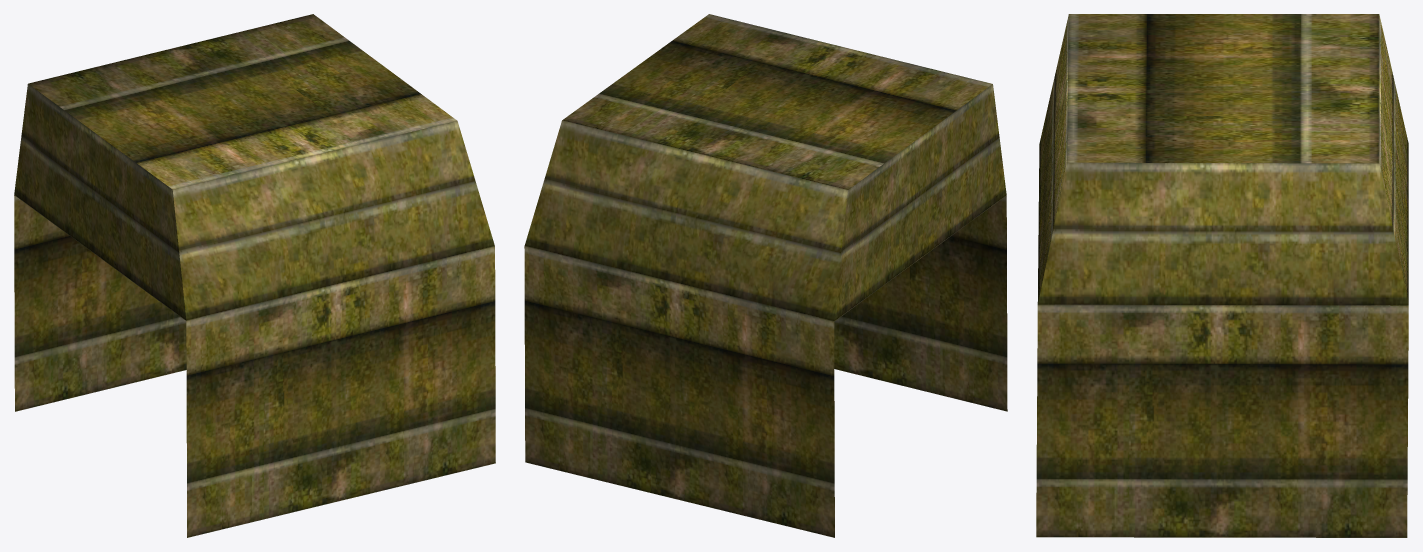
Rendered from OVERHILL_A_01_OBJECT301.fbx.
3 renders of one model, left to right at view 1: azimuth 30°, elevation 25°; view 2: azimuth 150°, elevation 25°; view 3: azimuth 270°, elevation 25°, orthographic. The views are drawn at different scales.
Parts seen in each view (by area): view 1: OVERHILL_A_01_OBJECT301; view 2: OVERHILL_A_01_OBJECT301; view 3: OVERHILL_A_01_OBJECT301.
Part boxes in pixels (left/top/right/bottom): OVERHILL_A_01_OBJECT301: left=14, top=14, right=495, bottom=537; OVERHILL_A_01_OBJECT301: left=524, top=14, right=1007, bottom=537; OVERHILL_A_01_OBJECT301: left=1036, top=14, right=1408, bottom=537.
Bounding box in the file's own units: 11843 × 12361 × 11525.
2 materials, 2 textured.
